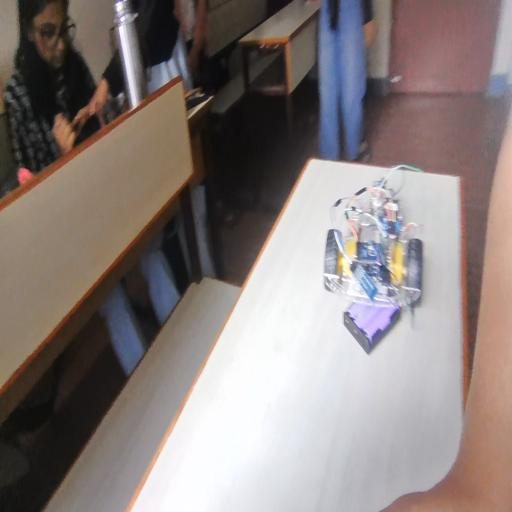car: (323, 162, 442, 327)
